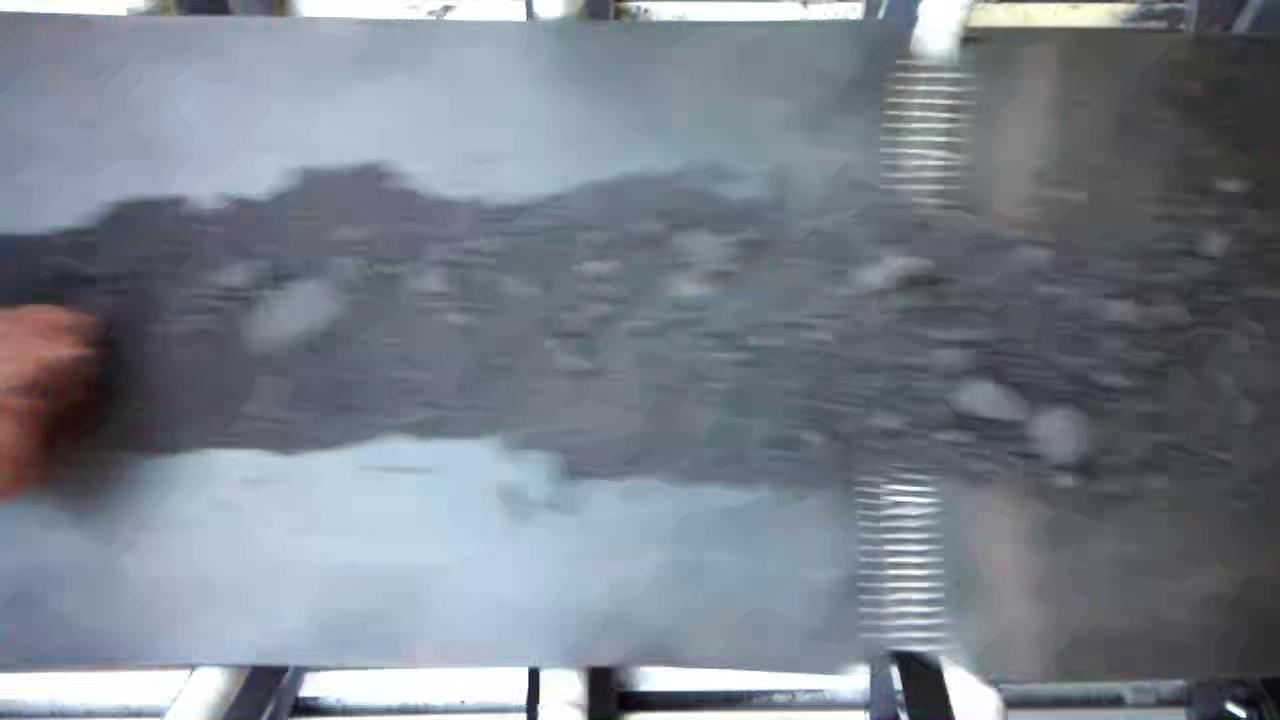conveyor: (9, 44, 1280, 671)
